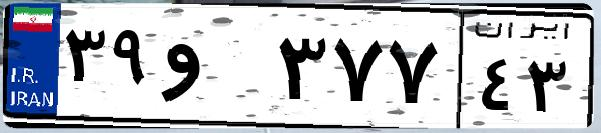3: (270, 28, 330, 110), (57, 26, 110, 100), (525, 38, 570, 115)
4: (475, 38, 525, 113)
7: (385, 28, 445, 110), (330, 28, 385, 110)
9: (110, 28, 158, 98)
و: (158, 20, 270, 120)
